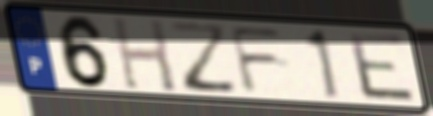1: (303, 28, 342, 100)
6: (56, 12, 116, 91)
E: (344, 30, 420, 105)
F: (226, 25, 288, 95)
H: (108, 14, 180, 95)
Z: (165, 20, 242, 96)
